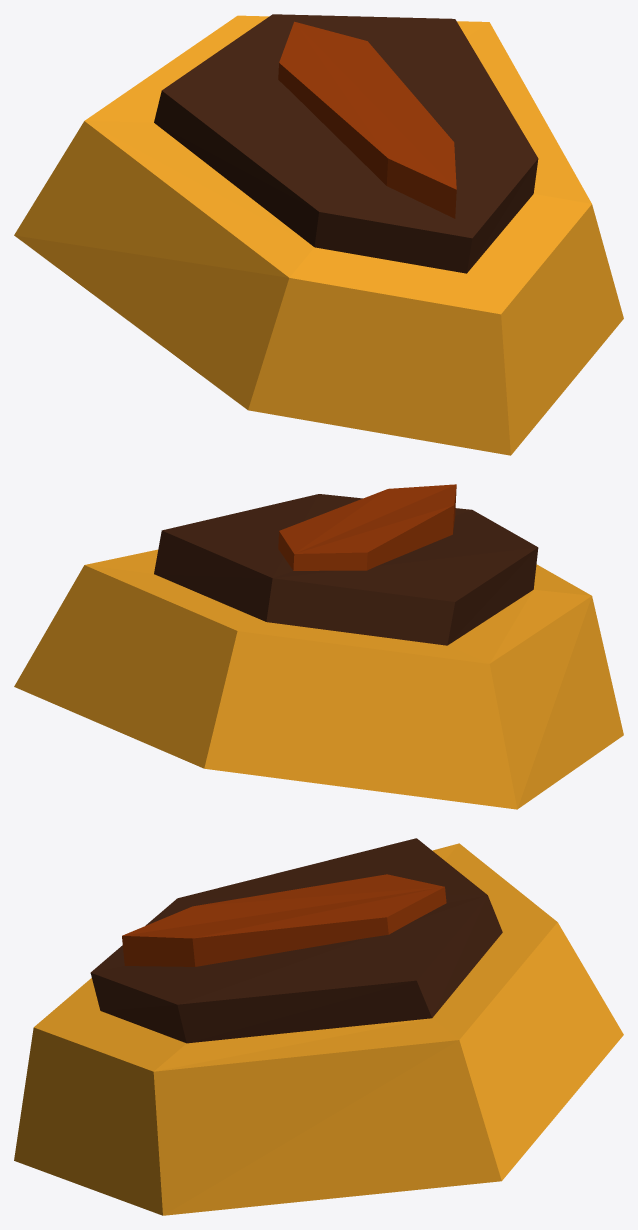
Rendered from Poleyn 05.FBX.
3 renders of one model, top to bottom at view 1: azimuth 30°, elevation 25°; view 2: azimuth 150°, elevation 25°; view 3: azimuth 270°, elevation 25°, orthographic.
Parts seen in each view (by area): view 1: Poleyn 05; view 2: Poleyn 05; view 3: Poleyn 05.
Boxes of the visible parts, left/top/right/bottom form: Poleyn 05: left=14, top=14, right=623, bottom=455; Poleyn 05: left=14, top=484, right=623, bottom=809; Poleyn 05: left=14, top=838, right=623, bottom=1215.
Size of the model in its own units: 12.82 by 6.7 by 13.53.
1 material, 1 textured.
